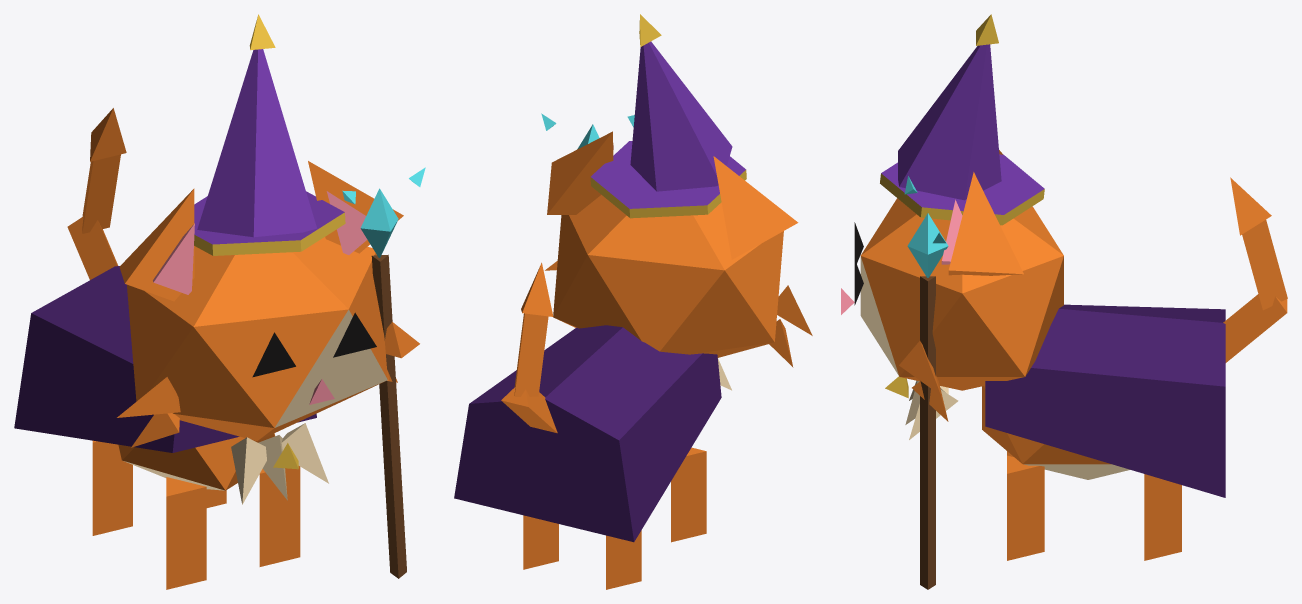
The model's file is wizard-cat.glb.
3 views of the same model, side by side, from view 1: azimuth 30°, elevation 25°; view 2: azimuth 150°, elevation 25°; view 3: azimuth 270°, elevation 25° (orthographic). The views are drawn at different scales.
Visible parts, largest first — view 1: Head, Cape, Hat, Staff, Leg_FR, Body, HatBrim, Leg_FL, FurChest, Ear_R, Leg_BR, FurCheek_R (+10 smaller); view 2: Cape, Head, Hat, HatBrim, Ear_R, Ear_L, Leg_FR, TailUpper, Leg_BR, Leg_BL, Tail, FurCheek_R (+1 smaller); view 3: Cape, Head, Hat, Staff, Ear_L, HatBrim, Leg_FL, Body, Leg_BL, TailUpper, Tail, FurCheek_L (+4 smaller).
Part boxes in pixels (x1,y1,x2,y2): Head: (127,237,387,441); Cape: (14,266,316,452); Hat: (197,49,316,237); Staff: (371,254,406,578); Leg_FR: (166,477,206,589); Body: (118,433,274,490); HatBrim: (194,191,345,255); Leg_FL: (259,466,300,566); FurChest: (231,423,328,504); Ear_R: (119,188,194,301); Leg_BR: (92,440,132,535); FurCheek_R: (117,377,180,447); Cape: (454,325,721,542); Head: (553,195,783,357); Hat: (630,41,732,191); HatBrim: (590,141,746,218); Ear_R: (713,156,798,259); Ear_L: (547,131,613,214); Leg_FR: (671,447,706,542); TailUpper: (514,313,548,396); Leg_BR: (606,530,641,589); Leg_BL: (523,515,558,569); Tail: (501,387,557,433); FurCheek_R: (769,285,812,367); Cape: (985,304,1225,497); Head: (860,198,1063,390); Hat: (898,44,1001,200); Staff: (920,276,935,589); Ear_L: (948,172,1023,275); HatBrim: (880,154,1044,225); Leg_FL: (1007,455,1044,560); Body: (982,386,1130,479); Leg_BL: (1144,474,1181,560); TailUpper: (1242,220,1287,310); Tail: (1223,294,1287,362); FurCheek_L: (899,341,948,421).
Size of the model in its own units: 1.45 by 2.53 by 1.95.
1 material, 1 textured.
